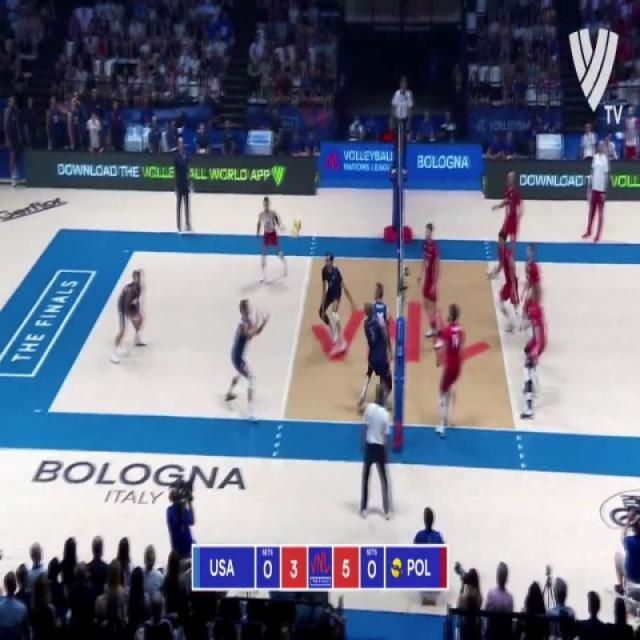volleyball: (291, 217, 302, 237)
